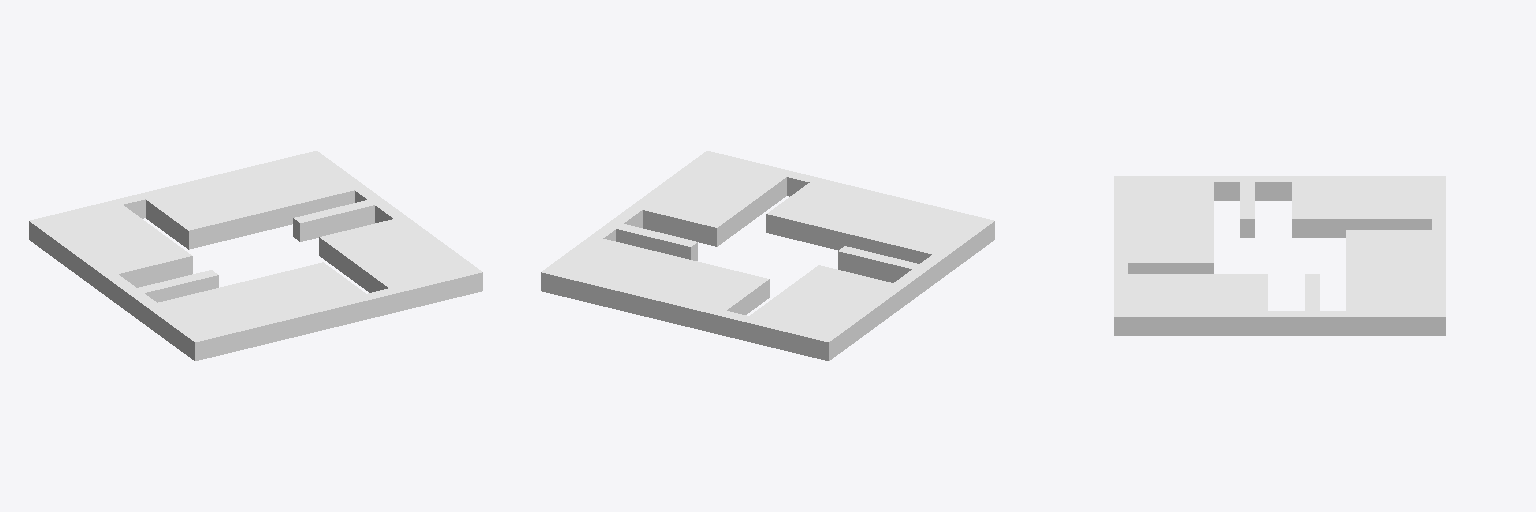
File: stage3-1-0-Stage3-1.obj
The picture shows the model from 3 angles: view 1: azimuth 30°, elevation 25°; view 2: azimuth 150°, elevation 25°; view 3: azimuth 270°, elevation 25°; orthographic projection.
Visible parts, largest first — view 1: Stage3-1; view 2: Stage3-1; view 3: Stage3-1.
Part boxes in pixels (x1,y1,x2,y2): Stage3-1: (29,151,482,360); Stage3-1: (541,151,994,360); Stage3-1: (1114,176,1445,335).
Bounding box in the file's own units: 25.5 × 1.6 × 25.5.